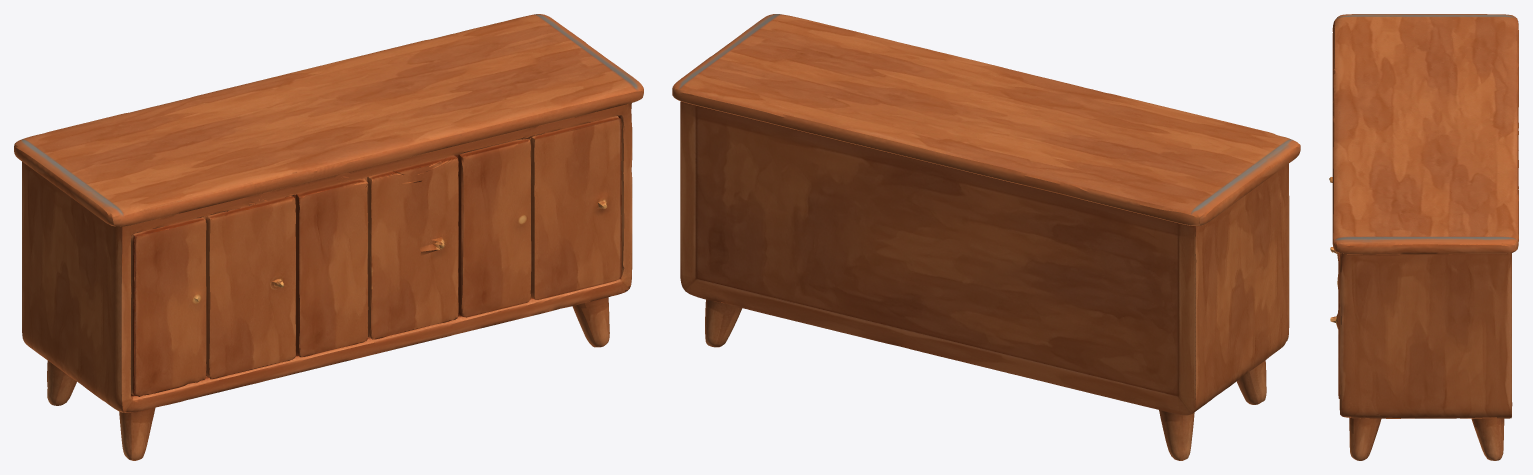
The model's file is Meshy_AI_Wooden_Sideboard_Cabi_1122050849_texture.glb.
The picture shows the model from 3 angles, left to right: view 1: azimuth 30°, elevation 25°; view 2: azimuth 150°, elevation 25°; view 3: azimuth 270°, elevation 25°; orthographic projection. The views are drawn at different scales.
Visible parts, largest first — view 1: Mesh0; view 2: Mesh0; view 3: Mesh0.
Part boxes in pixels (left/top/right/bottom): Mesh0: left=14, top=14, right=643, bottom=460; Mesh0: left=672, top=14, right=1300, bottom=460; Mesh0: left=1329, top=14, right=1518, bottom=460.
Size of the model in its own units: 1.9 by 0.8956 by 0.6615.
Materials: 1 (1 with a texture image).
